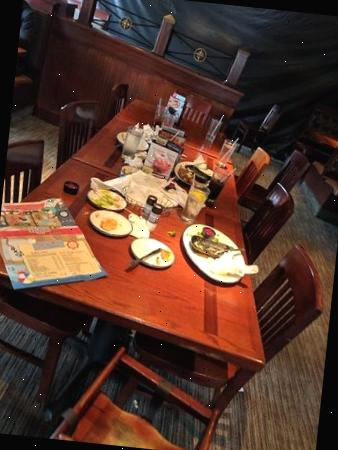Messy Table: (0, 21, 299, 424)
